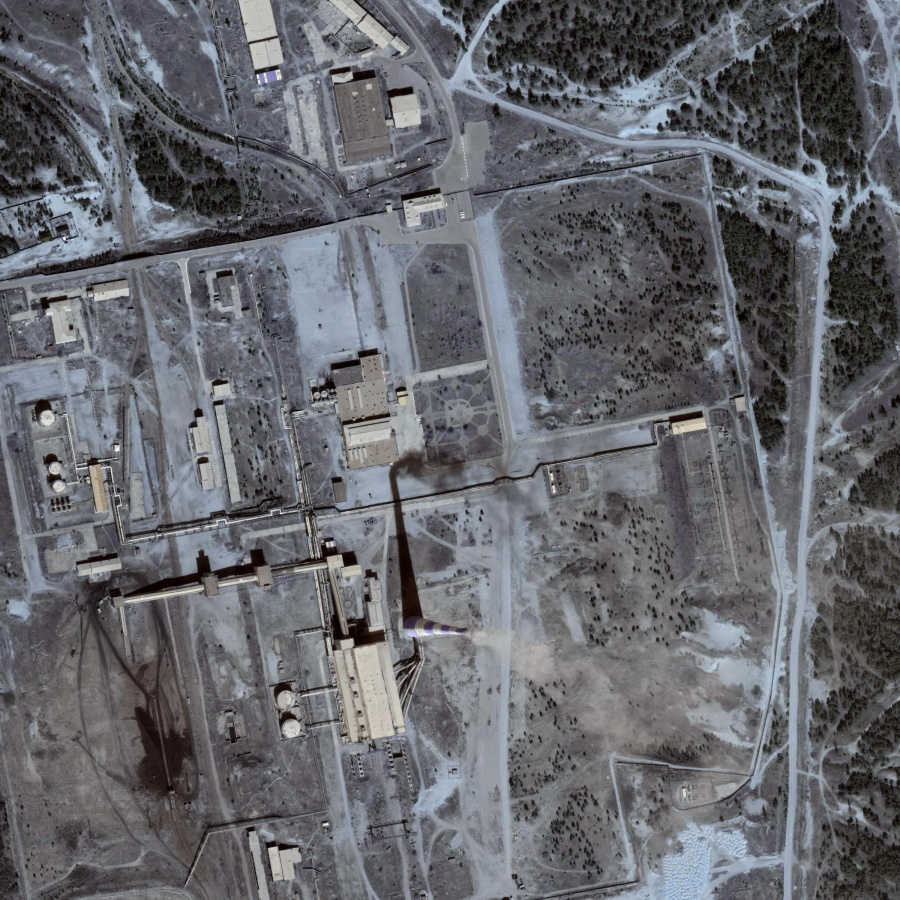PowerPlant: (14, 386, 492, 814)
